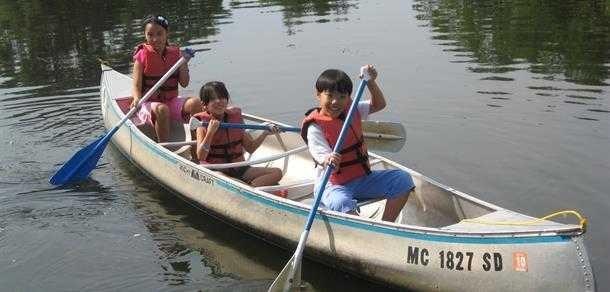kayak: (96, 83, 594, 290)
